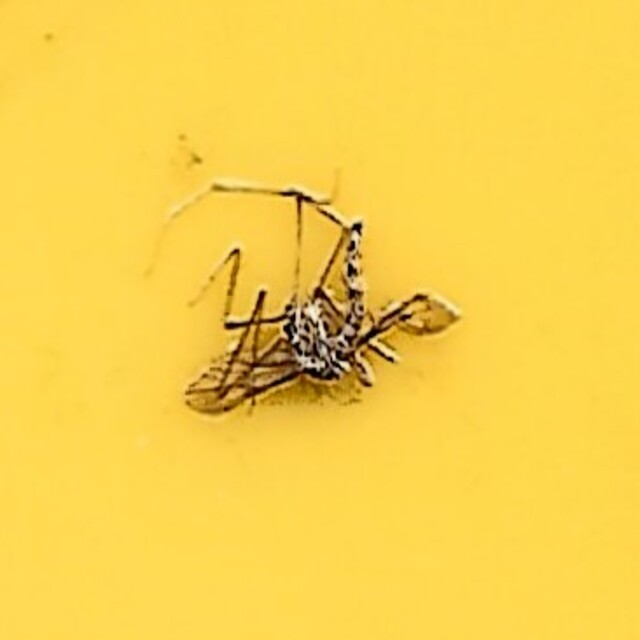Nematocera: (175, 211, 465, 429)
